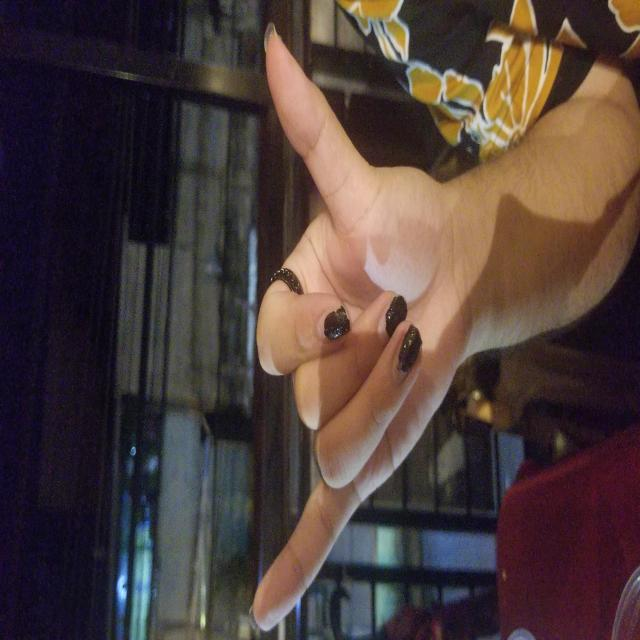Y: (225, 23, 446, 633)
